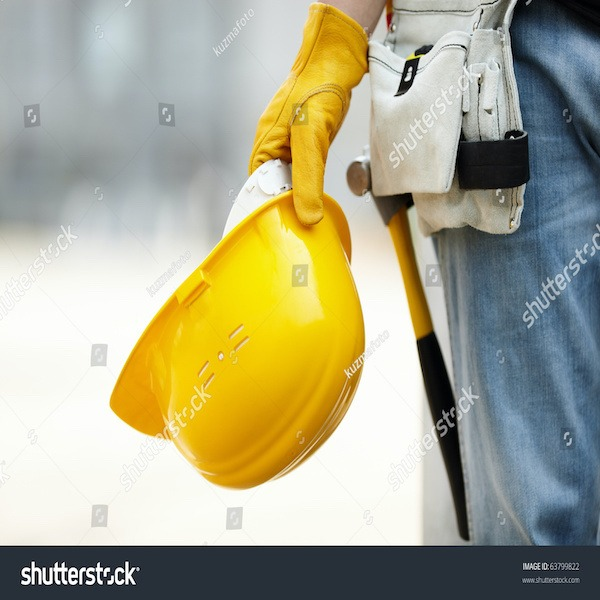helmet: (139, 190, 365, 479)
